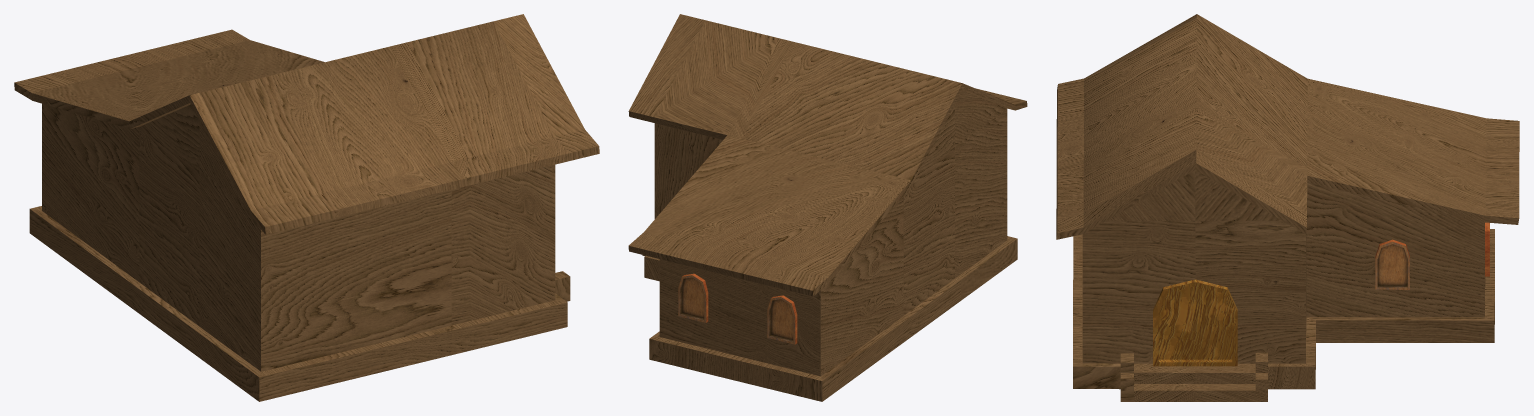
Rendered from Casa.fbx.
The picture shows the model from 3 angles, left to right: view 1: azimuth 30°, elevation 25°; view 2: azimuth 150°, elevation 25°; view 3: azimuth 270°, elevation 25°; orthographic projection. The views are drawn at different scales.
Visible parts, largest first — view 1: Casa de Flyn; view 2: Casa de Flyn, Ventana, Ventana001; view 3: Casa de Flyn, Puerta, Ventana002.
Boxes of the visible parts, x1,y1,x2,y2 form: Casa de Flyn: [14, 14, 599, 401]; Casa de Flyn: [628, 14, 1027, 401]; Ventana: [678, 273, 708, 322]; Ventana001: [767, 295, 797, 344]; Casa de Flyn: [1056, 14, 1519, 401]; Puerta: [1153, 279, 1237, 366]; Ventana002: [1375, 239, 1409, 289].
Size of the model in its own units: 21.04 by 15.28 by 27.14.
